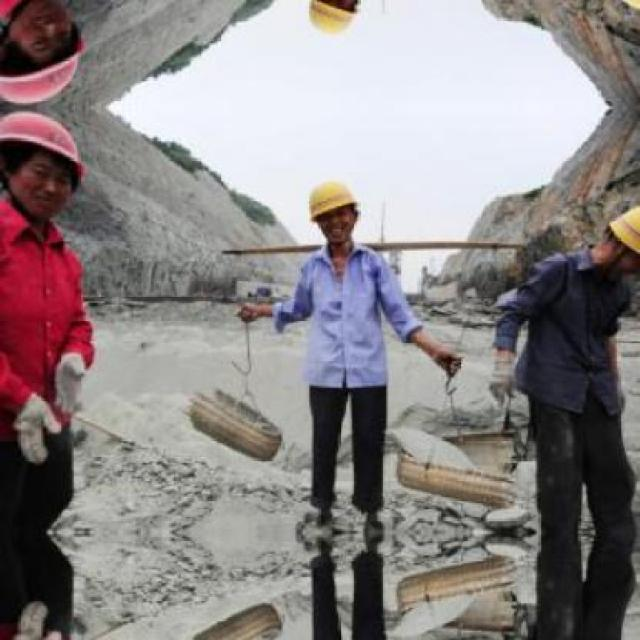helmet: (0, 109, 88, 220), (0, 0, 88, 103), (303, 168, 365, 250), (586, 206, 636, 272), (303, 0, 366, 46)
